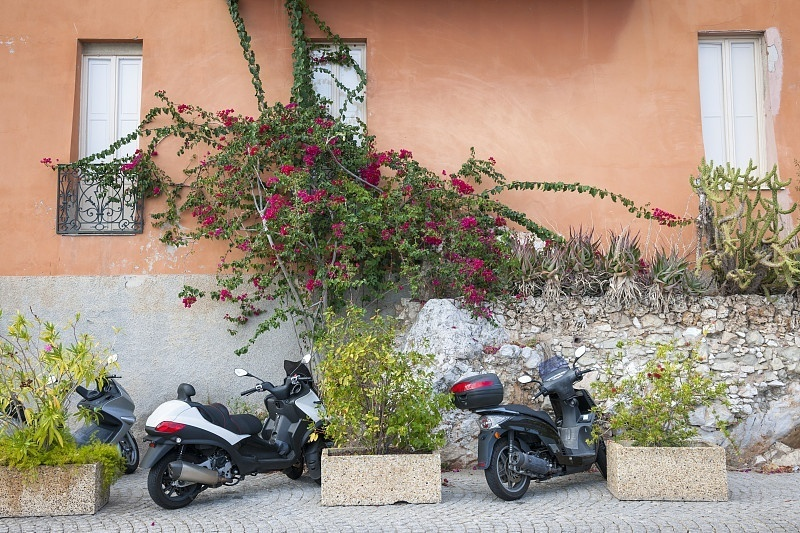non-vehicle: (136, 359, 336, 508), (451, 342, 616, 505), (62, 376, 138, 471)
